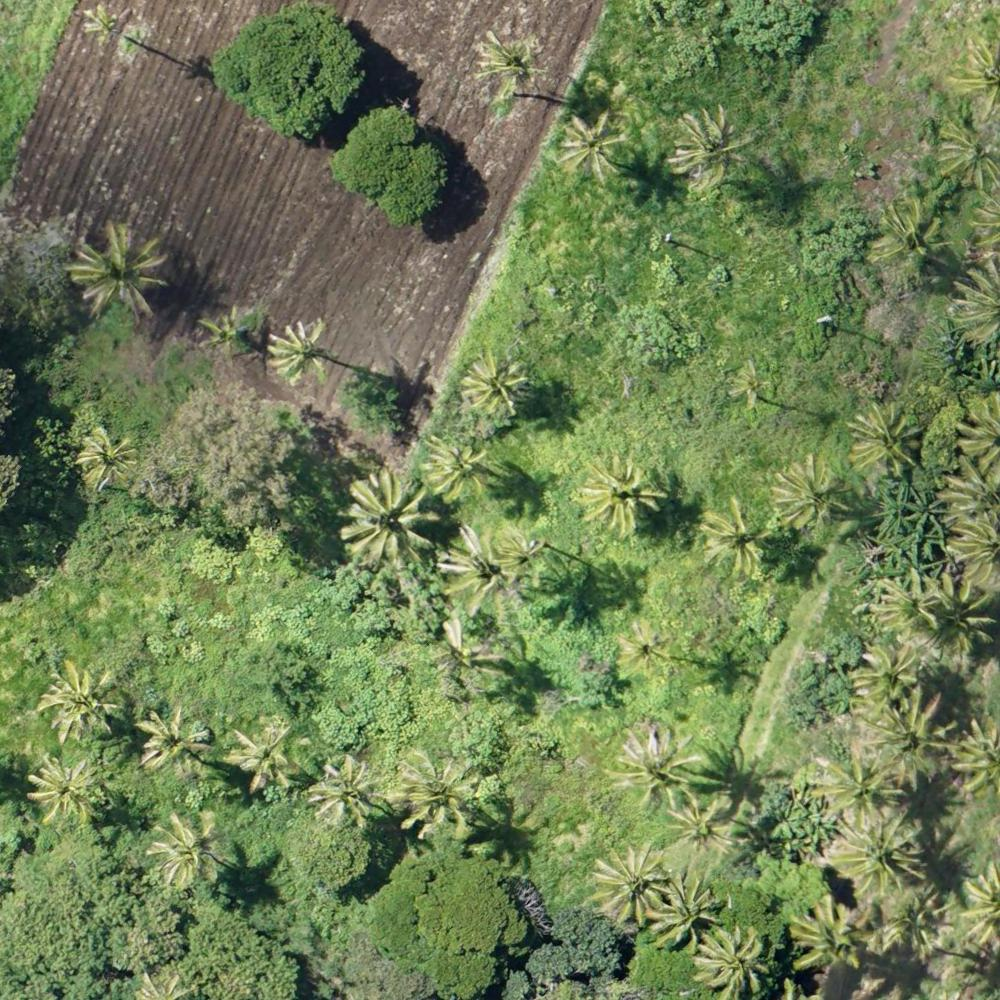Palm: (339, 469, 441, 565), (72, 222, 162, 317), (825, 811, 922, 892), (574, 455, 667, 533), (435, 521, 514, 610), (395, 751, 474, 840), (807, 750, 905, 819), (871, 698, 956, 776), (693, 498, 772, 579), (920, 573, 996, 657), (868, 201, 946, 279), (675, 109, 750, 189), (591, 846, 671, 921), (774, 456, 848, 536), (42, 662, 115, 743), (846, 406, 921, 480), (150, 809, 225, 883), (788, 898, 866, 968), (305, 759, 379, 831), (622, 732, 695, 803), (698, 925, 772, 995), (139, 711, 211, 779), (25, 755, 95, 824), (665, 792, 739, 857), (470, 31, 545, 95), (876, 569, 942, 638), (230, 726, 296, 795), (936, 114, 1000, 185), (653, 879, 719, 947), (459, 352, 528, 417), (559, 114, 625, 178), (264, 318, 331, 381), (78, 425, 142, 486), (429, 433, 492, 494), (856, 642, 921, 699), (496, 526, 551, 580), (726, 361, 778, 409), (78, 6, 126, 51)
